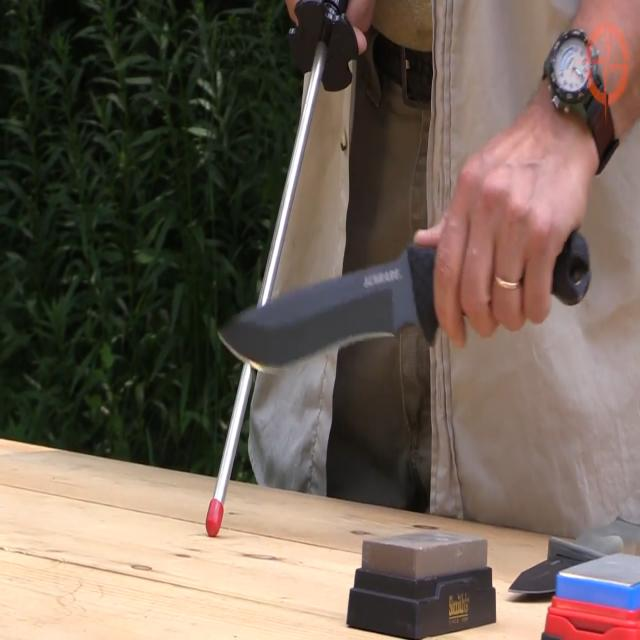knife: (215, 237, 439, 378)
